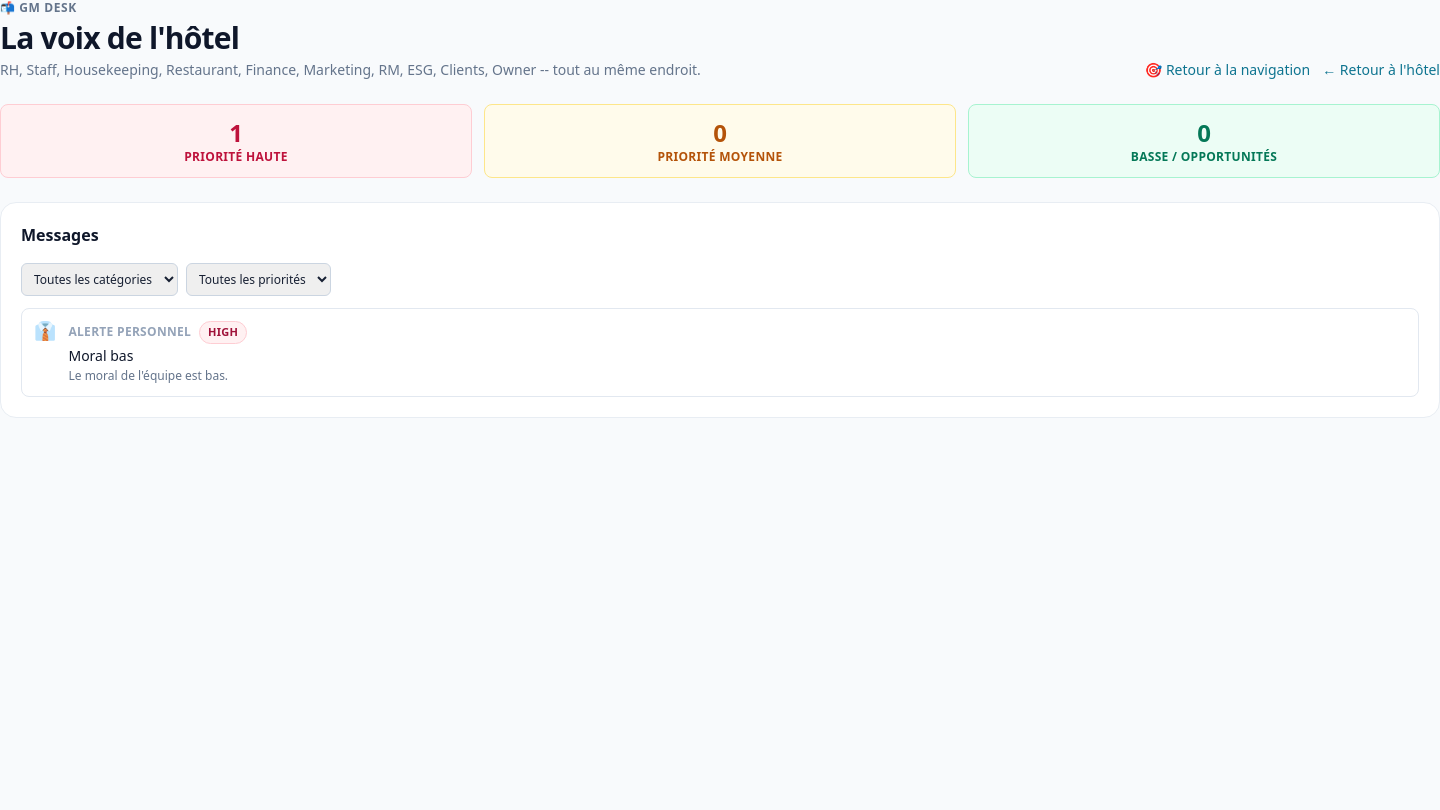
Test: opening a message and applying a decision shows a confirmation notification
Click the text "Moral bas".
click(101, 355)  # box [68,346,134,364]
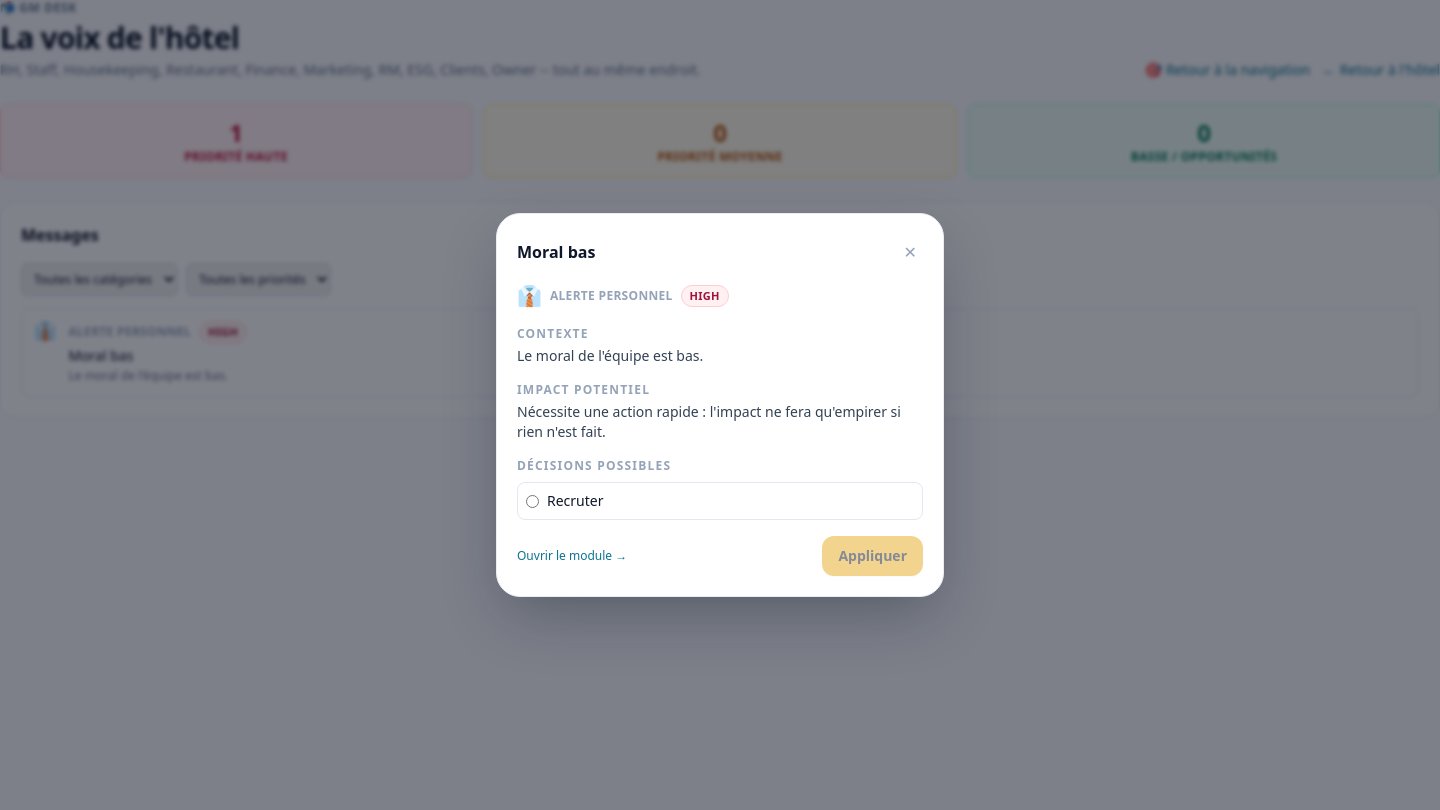
Now the dialog "Moral bas" is shown
Click the radio button labelled "Recruter".
click(532, 502)  # box [526,495,539,508]
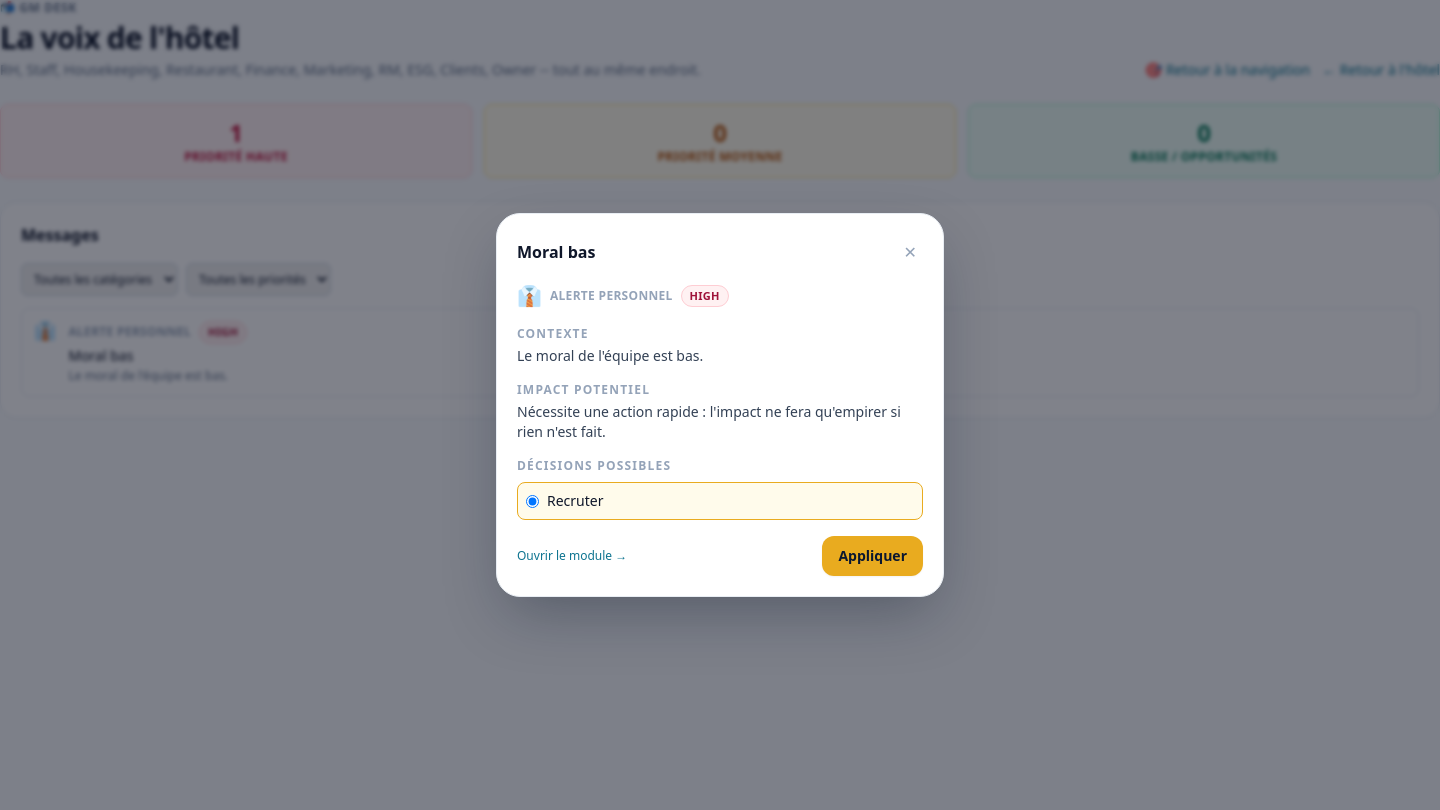
Click the button "Appliquer".
click(873, 556)  # box [822,536,923,576]
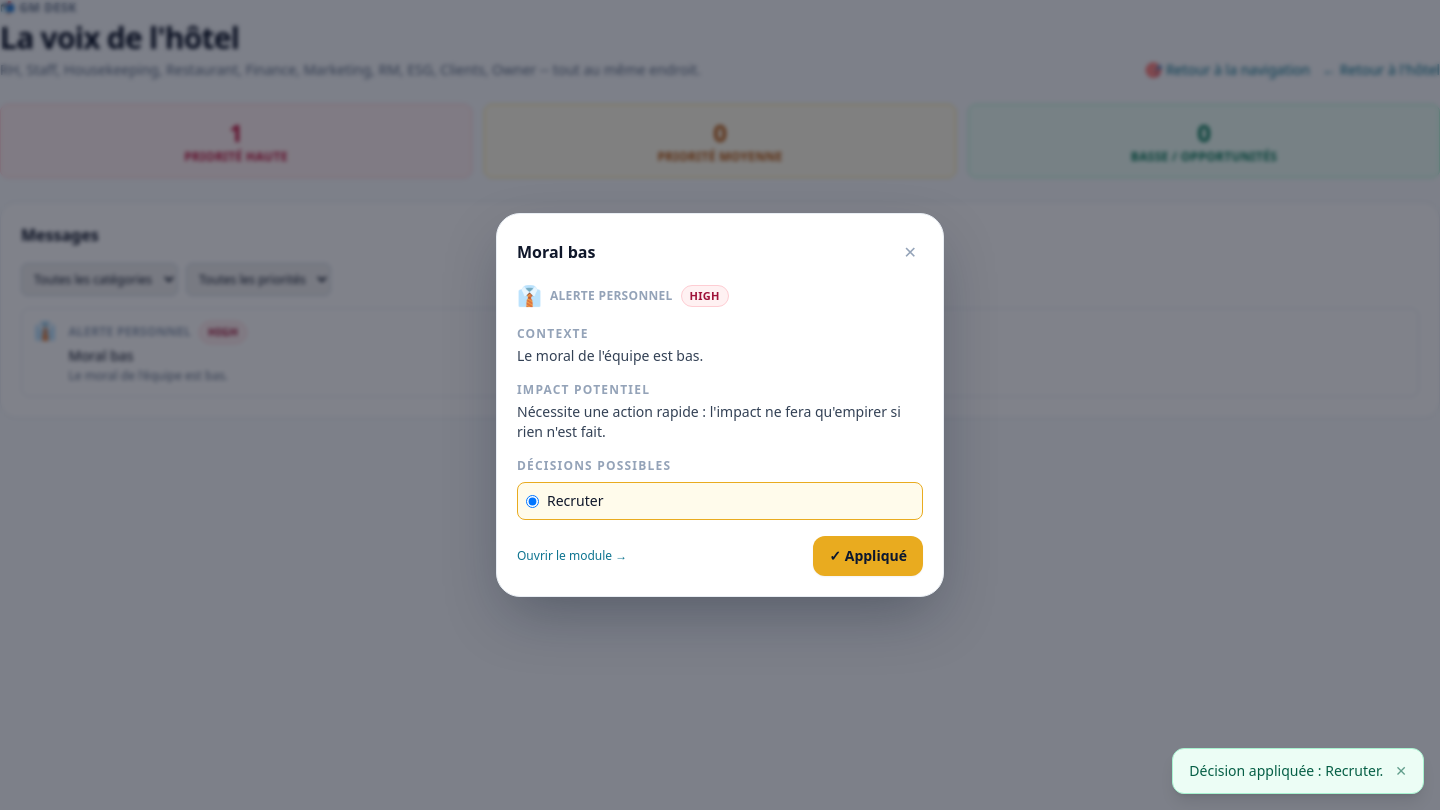
Now the message shows "Décision appliquée", box [1189,761,1383,780]
